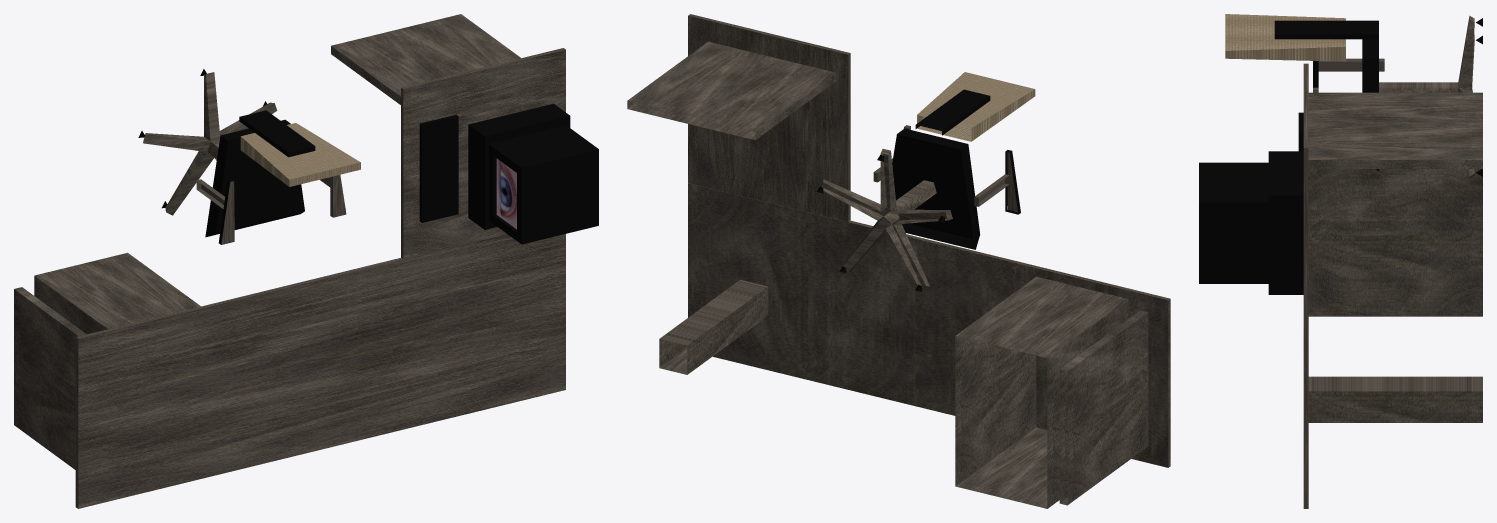
The model's file is office249_wtf.obj.
3 views of the same model, side by side, from view 1: azimuth 30°, elevation 25°; view 2: azimuth 150°, elevation 25°; view 3: azimuth 270°, elevation 25° (orthographic). The views are drawn at different scales.
Visible parts, largest first — view 1: group32, group33, group9, group35, group13, group7, group11, group15, group17, group36, group14, group5 (+1 smaller); view 2: group32, group33, group35, group14, group13, group15, group2, group17, group7, group36, group18; view 3: group14, group33, group9, group17, group36, group15, group35, group18, group32, group7, group26.
Boxes of the visible parts, x1,y1,x2,y2 form: group32: [75, 234, 565, 508]; group33: [14, 14, 520, 506]; group9: [468, 103, 598, 244]; group35: [401, 48, 565, 258]; group13: [34, 252, 200, 328]; group7: [205, 119, 304, 237]; group11: [419, 115, 458, 222]; group15: [143, 72, 277, 215]; group17: [241, 123, 360, 179]; group36: [239, 110, 315, 157]; group14: [34, 276, 107, 334]; group5: [496, 158, 516, 229]; group32: [688, 183, 1170, 467]; group33: [627, 41, 1170, 505]; group35: [688, 14, 850, 221]; group14: [955, 299, 1128, 508]; group13: [955, 276, 1127, 508]; group15: [821, 149, 952, 290]; group2: [893, 134, 973, 239]; group17: [917, 72, 1034, 141]; group7: [892, 128, 980, 249]; group36: [915, 89, 990, 135]; group18: [917, 89, 1035, 141]; group14: [1308, 169, 1482, 316]; group33: [1308, 92, 1482, 422]; group9: [1199, 151, 1303, 294]; group17: [1225, 14, 1345, 50]; group36: [1274, 20, 1378, 39]; group15: [1379, 15, 1474, 178]; group35: [1303, 63, 1308, 328]; group18: [1225, 47, 1345, 61]; group32: [1303, 328, 1308, 508]; group7: [1362, 39, 1378, 170]; group26: [1318, 58, 1384, 71].
Bounding box in the file's own units: 660 × 440 × 313.
